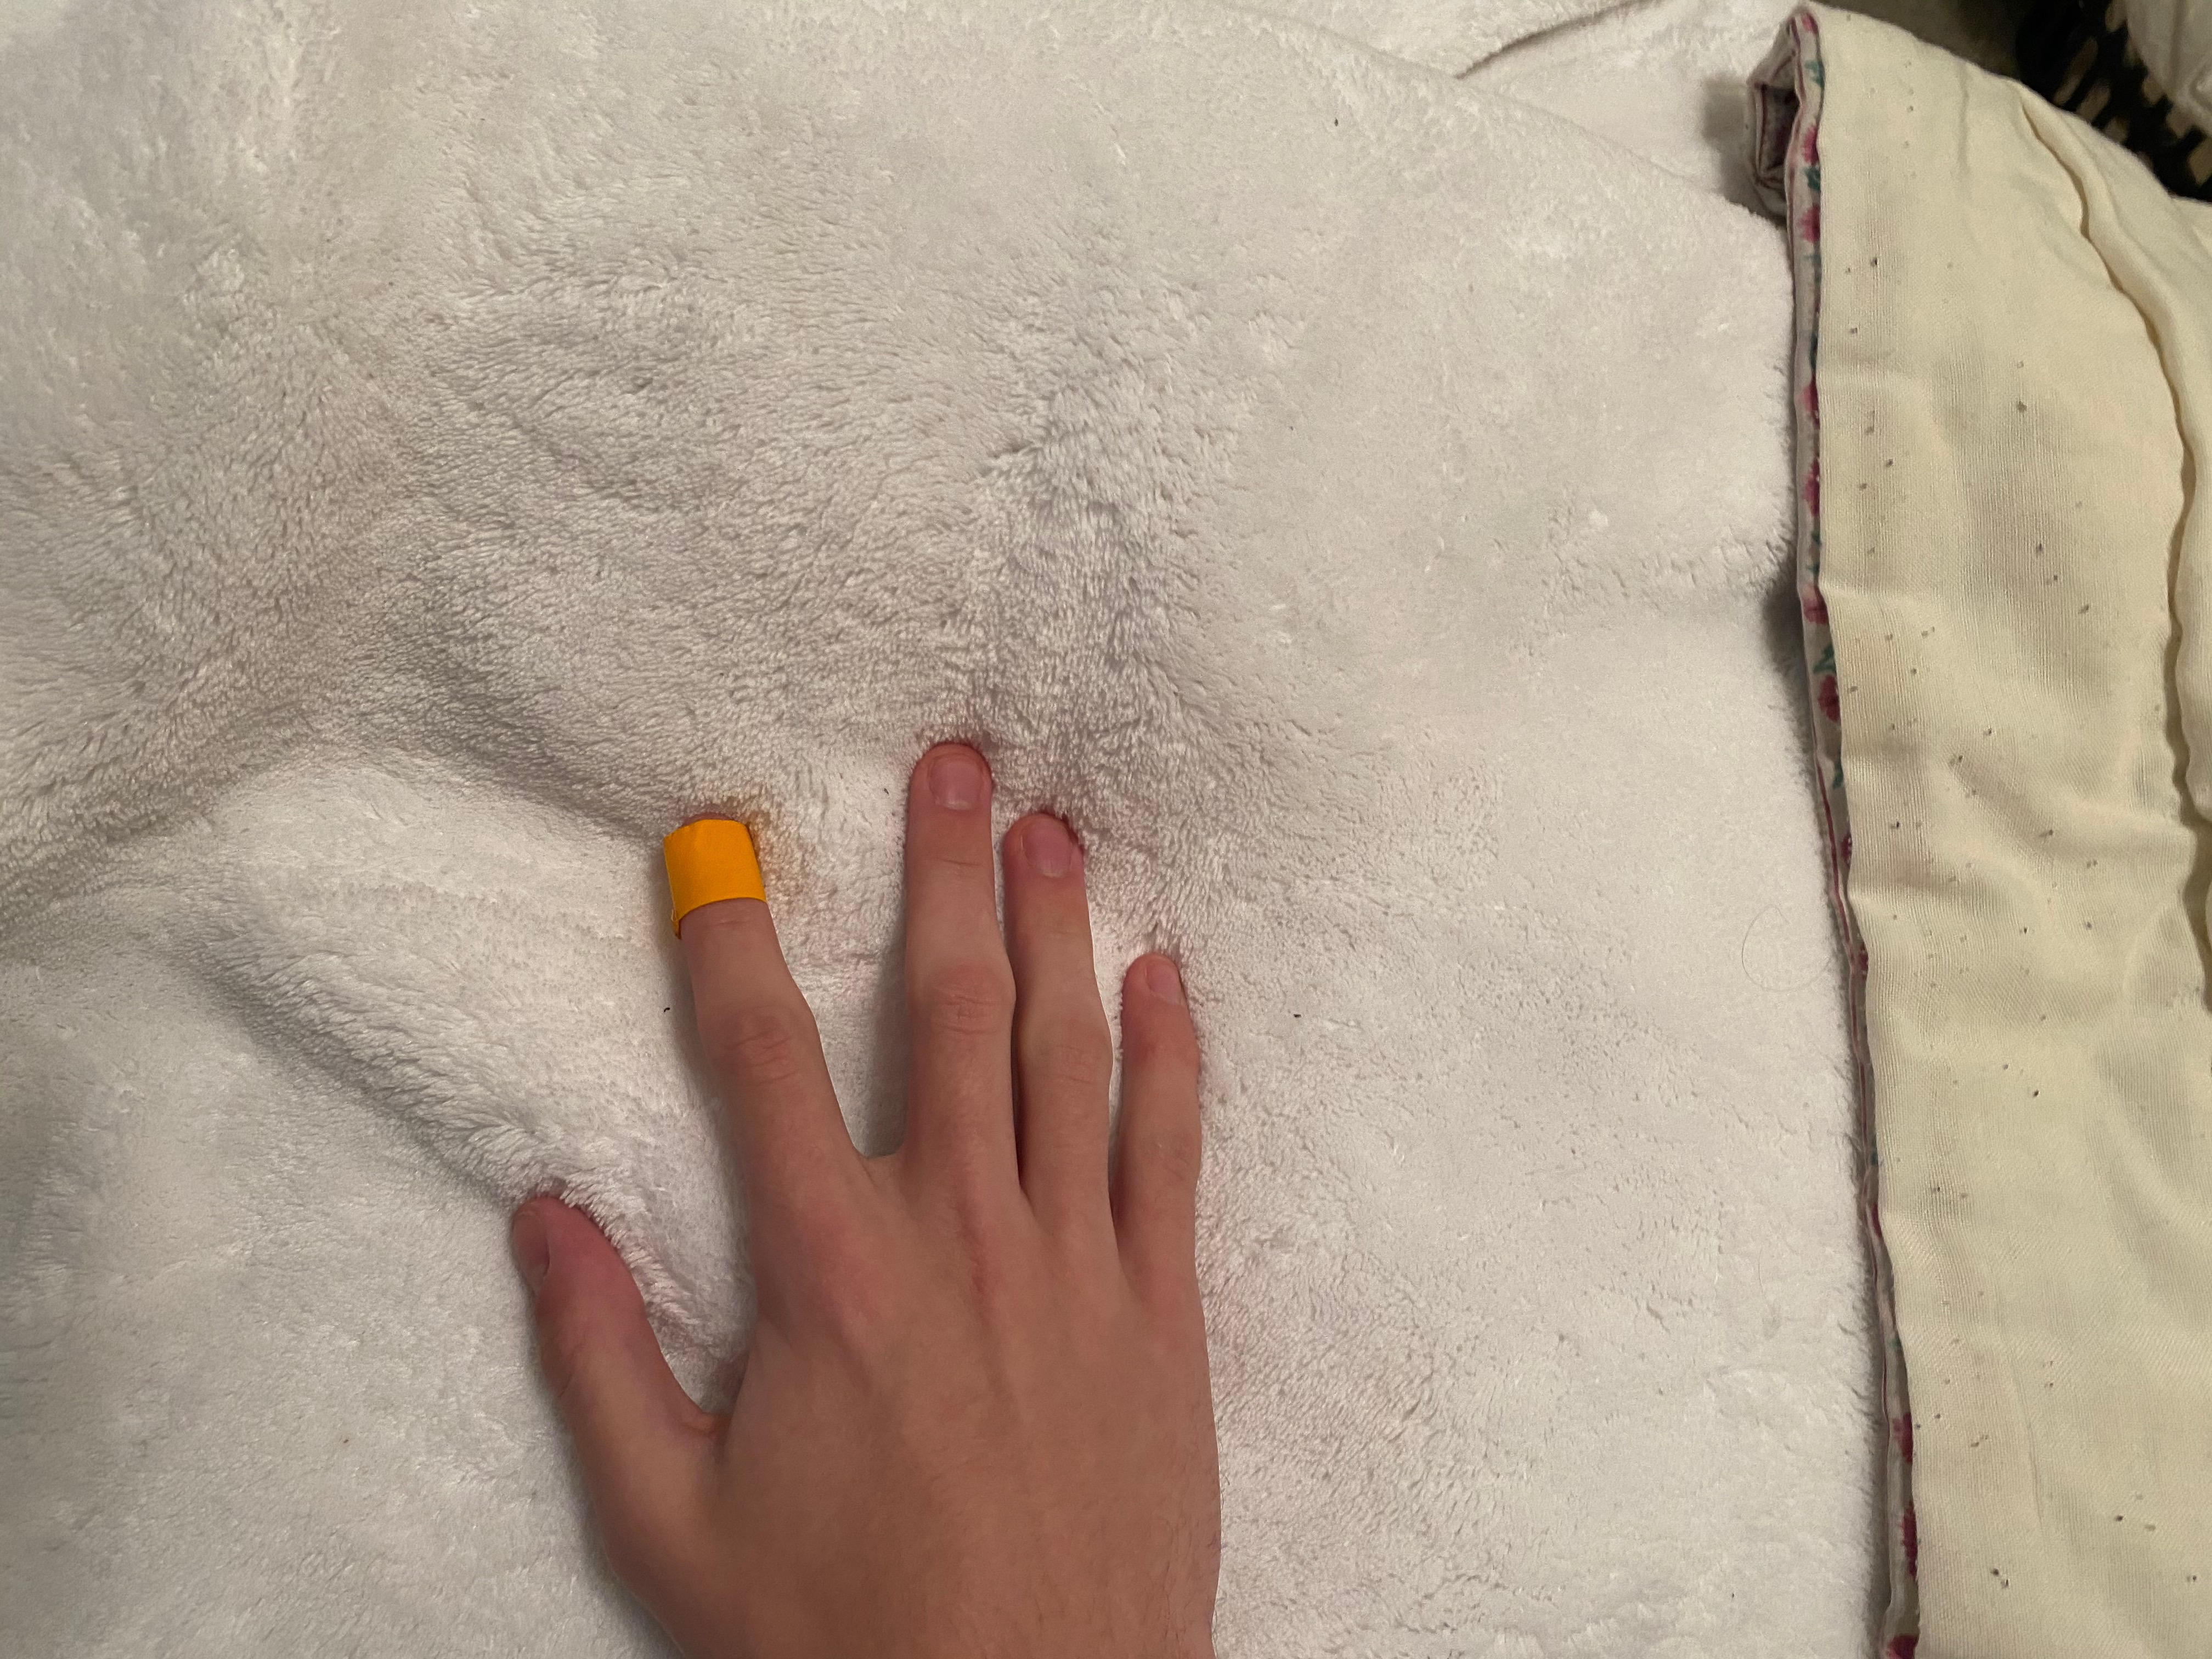fingertip: (632, 805, 801, 955)
